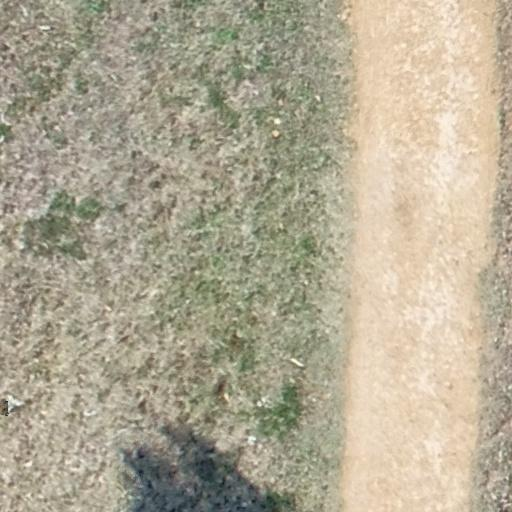stone: (270, 125, 282, 139), (274, 117, 278, 122)
